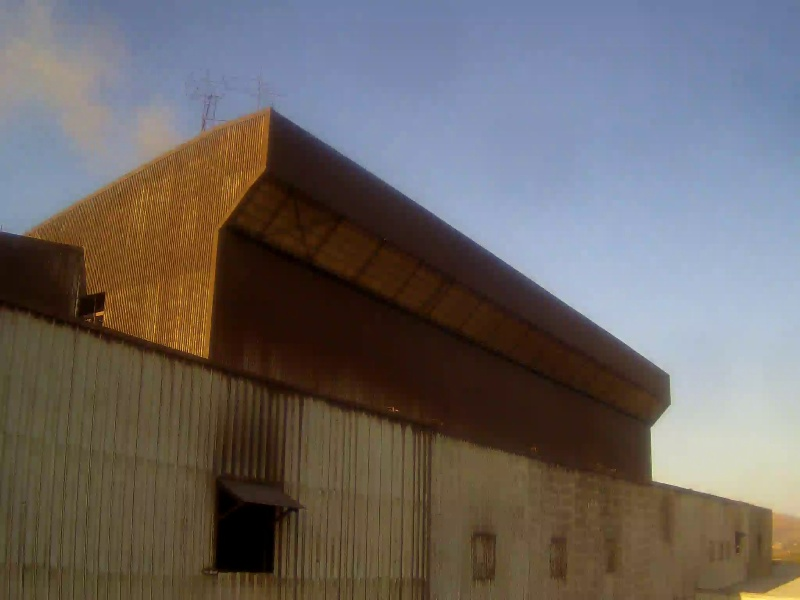bom: (245, 13, 749, 442)
ruim: (1, 2, 184, 163)
